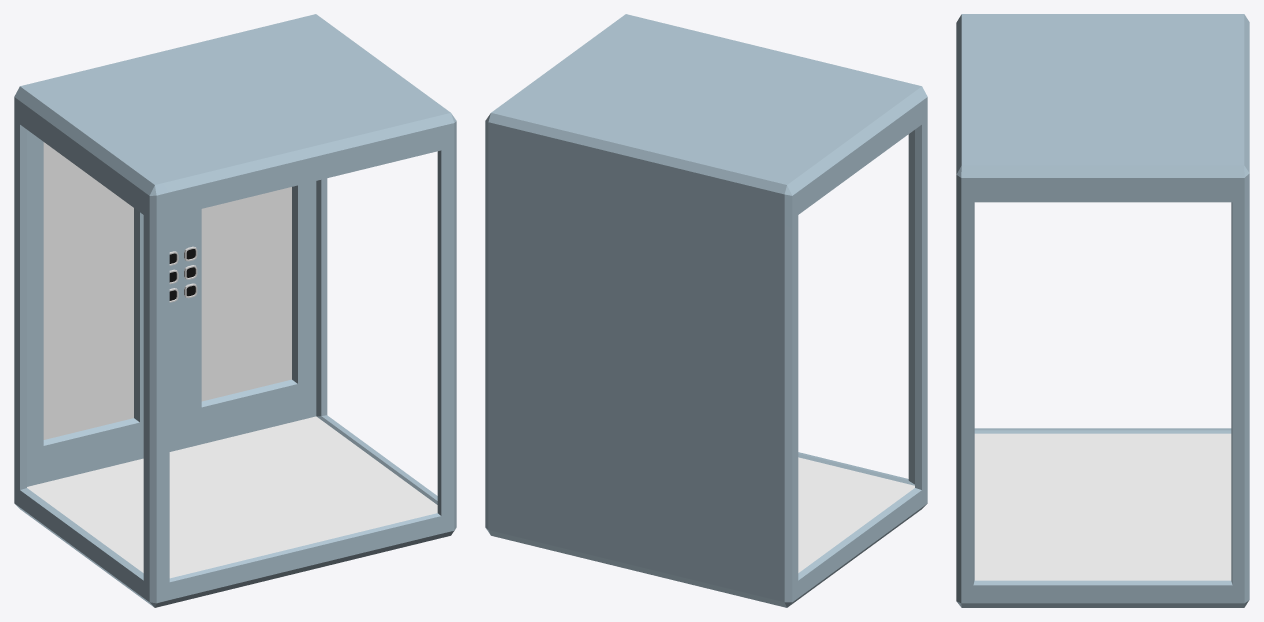
File: elevator.fbx
3 views of the same model, side by side, from view 1: azimuth 30°, elevation 25°; view 2: azimuth 150°, elevation 25°; view 3: azimuth 270°, elevation 25° (orthographic). The views are drawn at different scales.
Parts seen in each view (by area): view 1: elevator; view 2: elevator; view 3: elevator.
Boxes of the visible parts, left/top/right/bottom form: elevator: left=14, top=14, right=456, bottom=607; elevator: left=485, top=14, right=927, bottom=607; elevator: left=956, top=14, right=1249, bottom=607.
Bounding box in the file's own units: 3.93 × 5.17 × 3.1.
3 materials, 1 textured.
